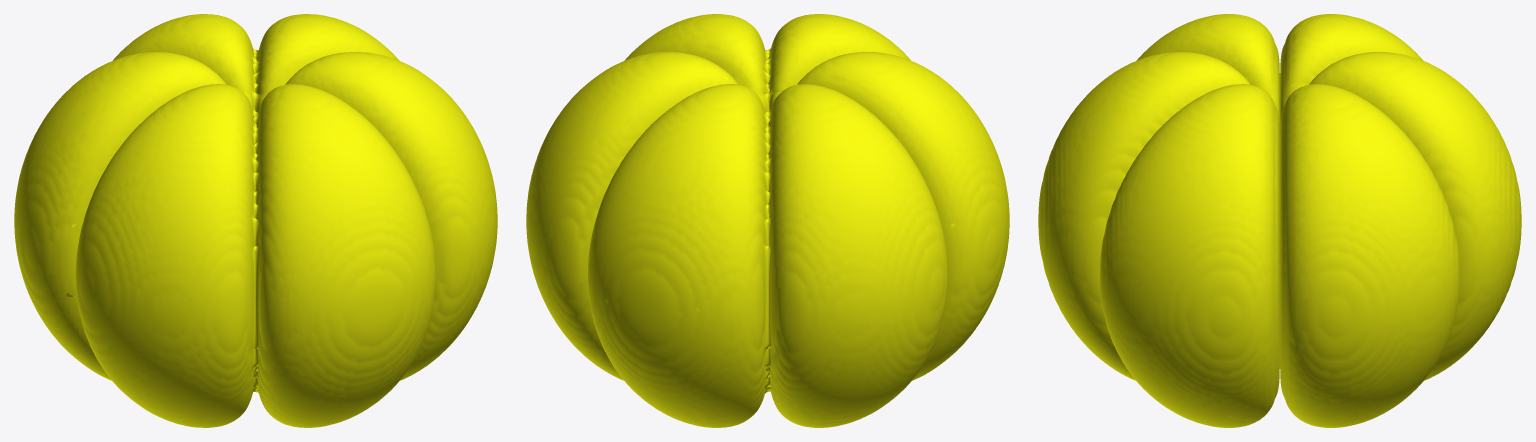
File: orb_n=7_ l=3 _m=-3.fbx
The picture shows the model from 3 angles, left to right: view 1: azimuth 30°, elevation 25°; view 2: azimuth 150°, elevation 25°; view 3: azimuth 270°, elevation 25°; orthographic projection.
Visible parts, largest first — view 1: orb_n=7_ l=3 _m=-3; view 2: orb_n=7_ l=3 _m=-3; view 3: orb_n=7_ l=3 _m=-3.
Part boxes in pixels (left/top/right/bottom): orb_n=7_ l=3 _m=-3: left=14, top=14, right=497, bottom=427; orb_n=7_ l=3 _m=-3: left=526, top=14, right=1009, bottom=427; orb_n=7_ l=3 _m=-3: left=1038, top=14, right=1521, bottom=427.
Bounding box in the file's own units: 29557 × 23316 × 31268.
